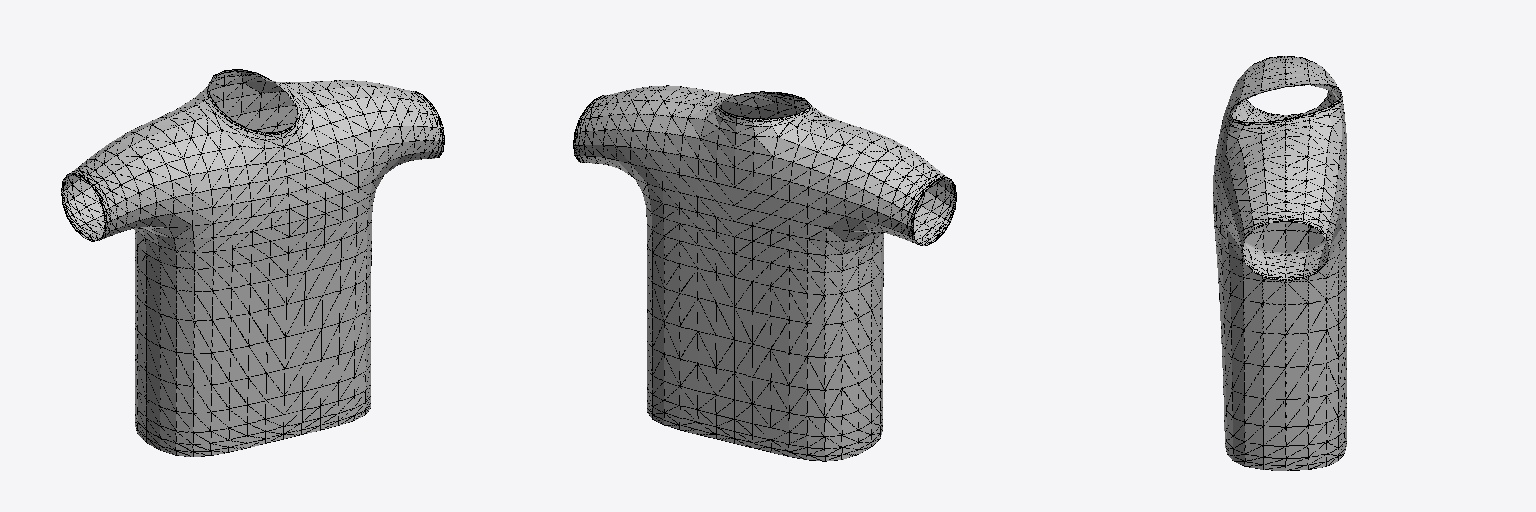
3 views of the same model, side by side, from view 1: azimuth 30°, elevation 25°; view 2: azimuth 150°, elevation 25°; view 3: azimuth 270°, elevation 25° (orthographic).
Parts seen in each view (by area): view 1: Cube_Cube.001; view 2: Cube_Cube.001; view 3: Cube_Cube.001.
Part boxes in pixels (bbox=[...]): Cube_Cube.001: bbox=[61, 69, 444, 456]; Cube_Cube.001: bbox=[573, 85, 956, 461]; Cube_Cube.001: bbox=[1213, 56, 1346, 470].
Bounding box in the file's own units: 34.45 × 31.55 × 11.79.
Materials: 1 (1 with a texture image).